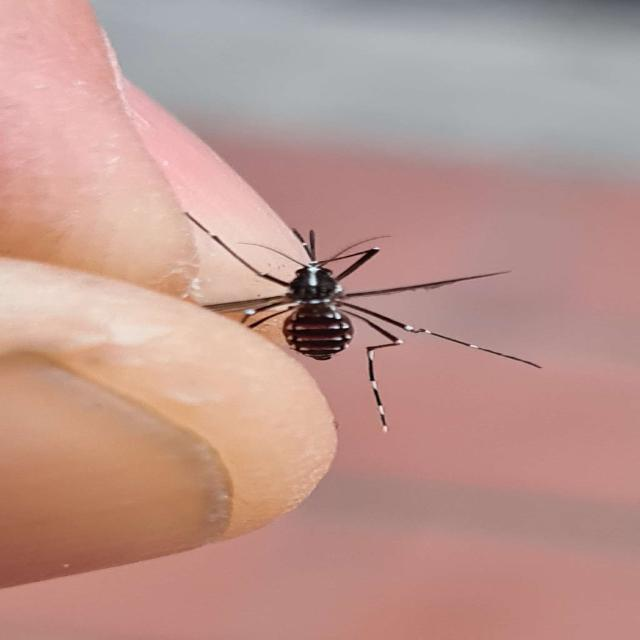albopictus: (172, 204, 532, 433)
